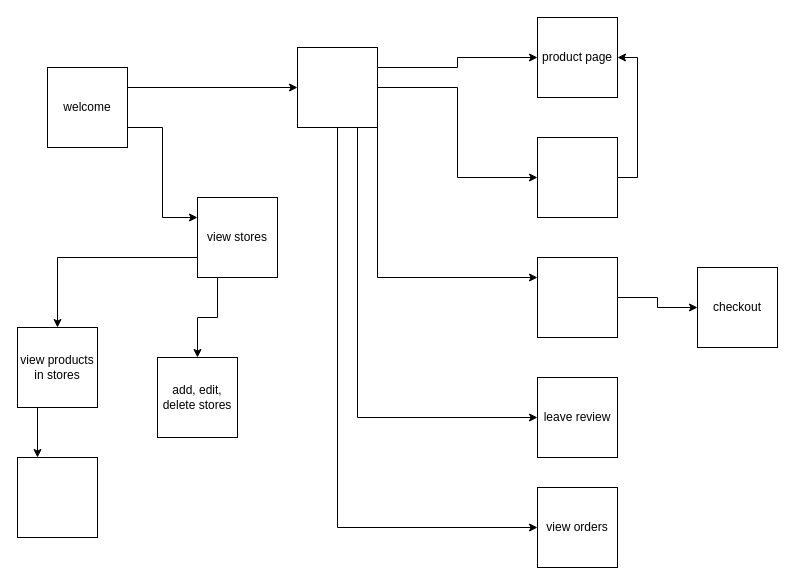
The diagram is 795 pixels wide and 585 high, and some of its shapes have lost their labels. The box of each missing label's shape, as (x1, y1, x2, y2) in pixels:
add, edit, delete products: (16, 456, 98, 538)
product list: (296, 46, 378, 128)
search product: (536, 136, 618, 218)
view cart: (536, 256, 618, 338)
